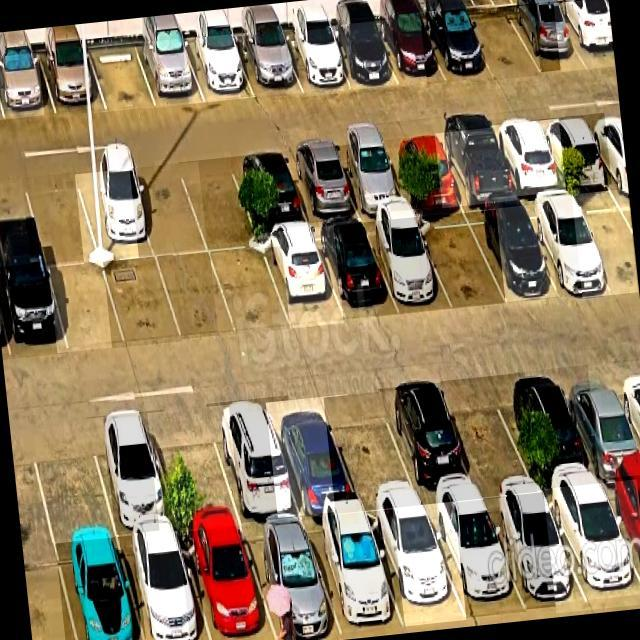empty: (441, 376, 537, 497), (323, 392, 421, 507), (147, 411, 241, 530), (27, 418, 115, 542), (415, 213, 505, 308), (179, 157, 259, 251), (22, 173, 99, 264), (130, 165, 207, 256), (103, 257, 181, 346), (157, 253, 237, 339), (572, 191, 638, 293), (210, 248, 290, 332), (48, 263, 124, 351), (463, 7, 540, 79), (88, 43, 157, 110)
occupied: (303, 512, 405, 639), (379, 383, 481, 504), (543, 483, 640, 609), (240, 521, 341, 640), (484, 493, 587, 609), (365, 508, 466, 625), (425, 499, 525, 617), (207, 399, 300, 522), (178, 526, 277, 640), (87, 413, 177, 534), (266, 398, 359, 515), (509, 369, 599, 489), (119, 531, 210, 640), (559, 366, 640, 481), (520, 195, 612, 294), (56, 537, 143, 640), (466, 207, 556, 301), (260, 228, 343, 328), (313, 222, 399, 318), (364, 218, 451, 310), (74, 169, 154, 261), (435, 128, 517, 205), (0, 264, 67, 358), (230, 151, 309, 230), (283, 146, 360, 222), (331, 141, 409, 215), (383, 135, 462, 207), (490, 121, 566, 195), (506, 4, 587, 71), (538, 116, 611, 188), (374, 13, 446, 85), (420, 11, 494, 81), (326, 21, 398, 88), (136, 40, 205, 106), (183, 38, 254, 102), (38, 47, 106, 113), (279, 29, 350, 92), (234, 34, 301, 96), (554, 0, 614, 67), (601, 476, 640, 579), (0, 53, 55, 119)
